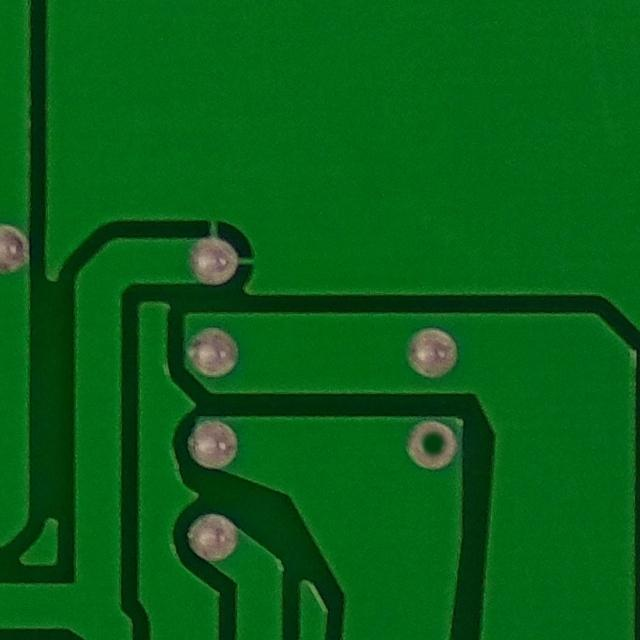missing_hole: (404, 406, 461, 479)
